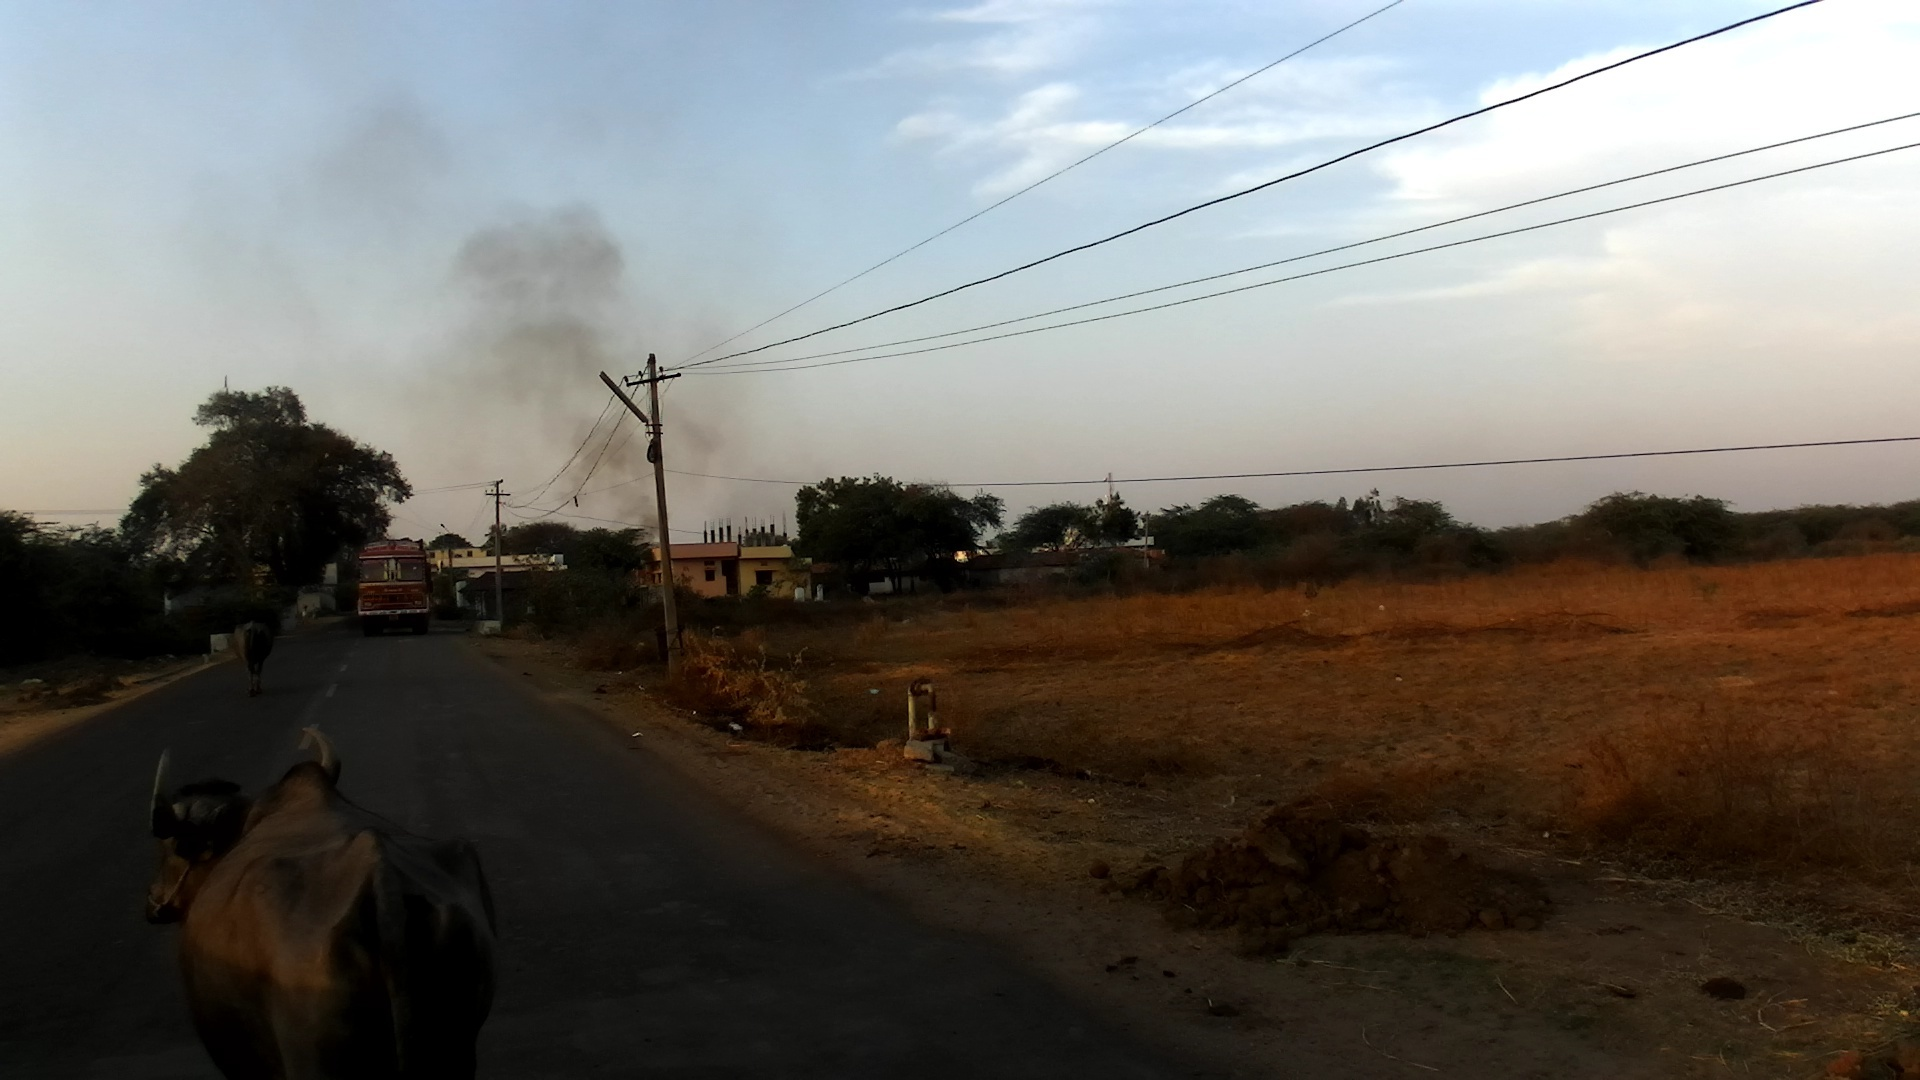animal: (148, 724, 506, 1077), (229, 618, 277, 703)
truck: (342, 535, 431, 636)
